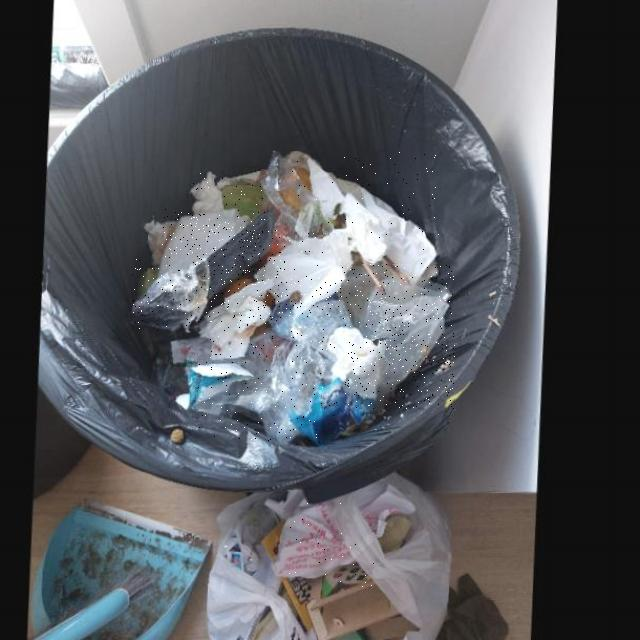biowaste: (225, 186, 265, 222), (142, 268, 161, 297)
paper: (287, 152, 440, 276), (257, 229, 355, 318), (162, 209, 256, 276), (280, 501, 361, 578), (205, 280, 277, 360), (332, 327, 385, 397), (347, 193, 395, 265), (191, 172, 227, 214), (332, 562, 378, 588)
plastic: (199, 328, 342, 443), (343, 264, 455, 409), (133, 257, 213, 331)
